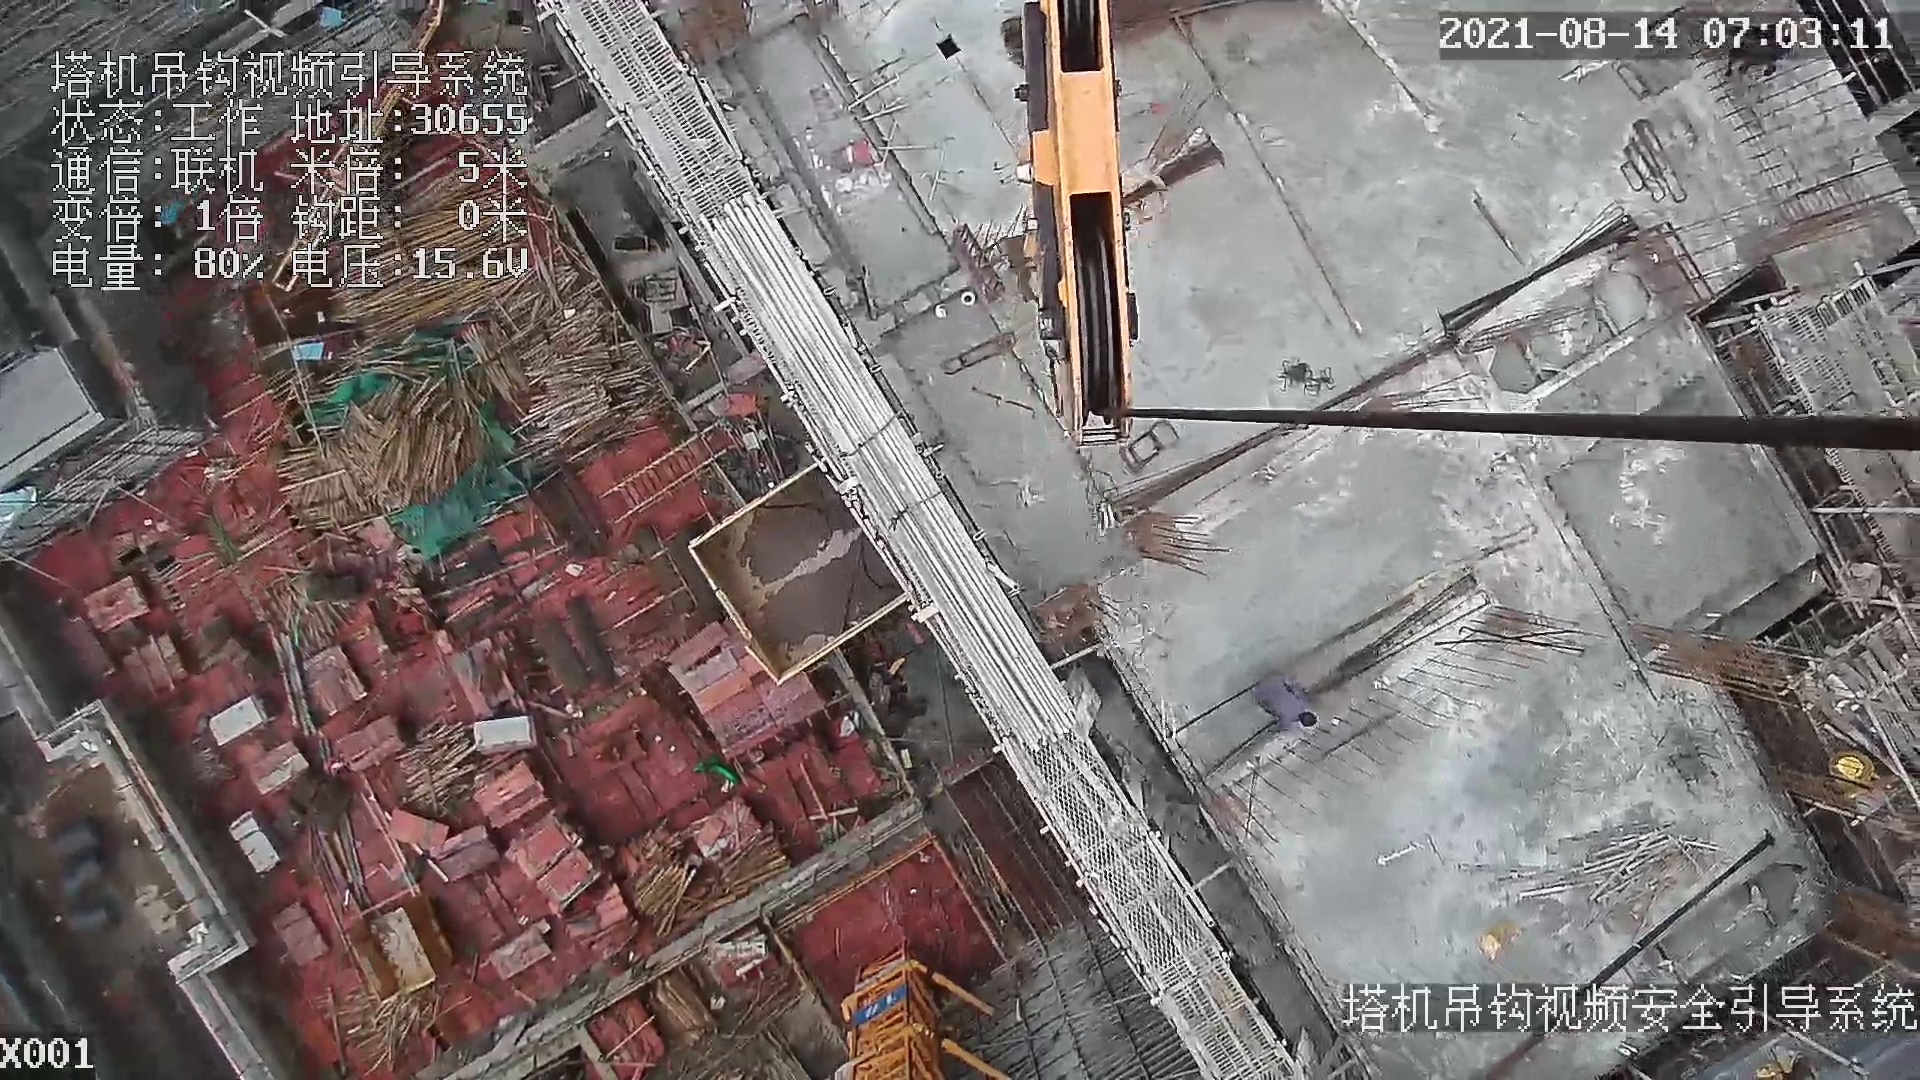hook: (1003, 1, 1144, 455)
person: (1254, 672, 1322, 735)
slogan: (855, 983, 907, 1028)
